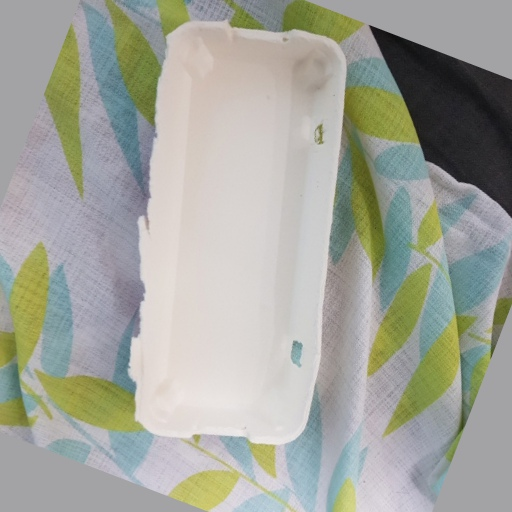Paper_0: (130, 14, 350, 456)
